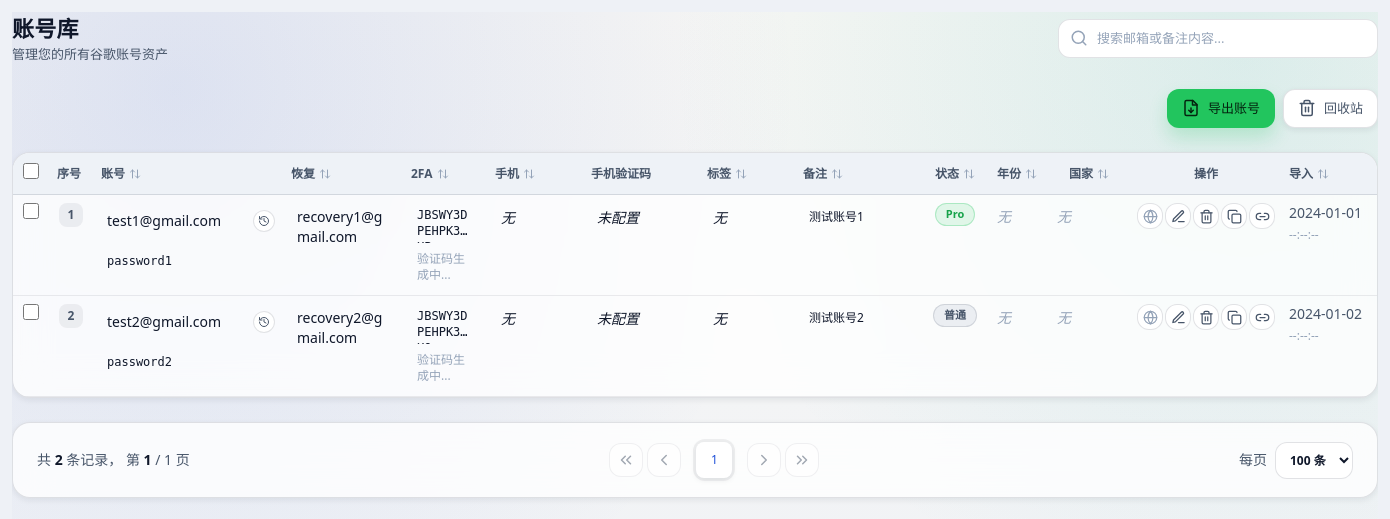
Test case: AccountListView 组件 › 操作按钮 › 刚编辑的新值可立即在同列其他行的建议中复用
Double-click the text "recovery1@gmail.com" at (340, 226), box x1=297 y1=207 x2=382 y2=246
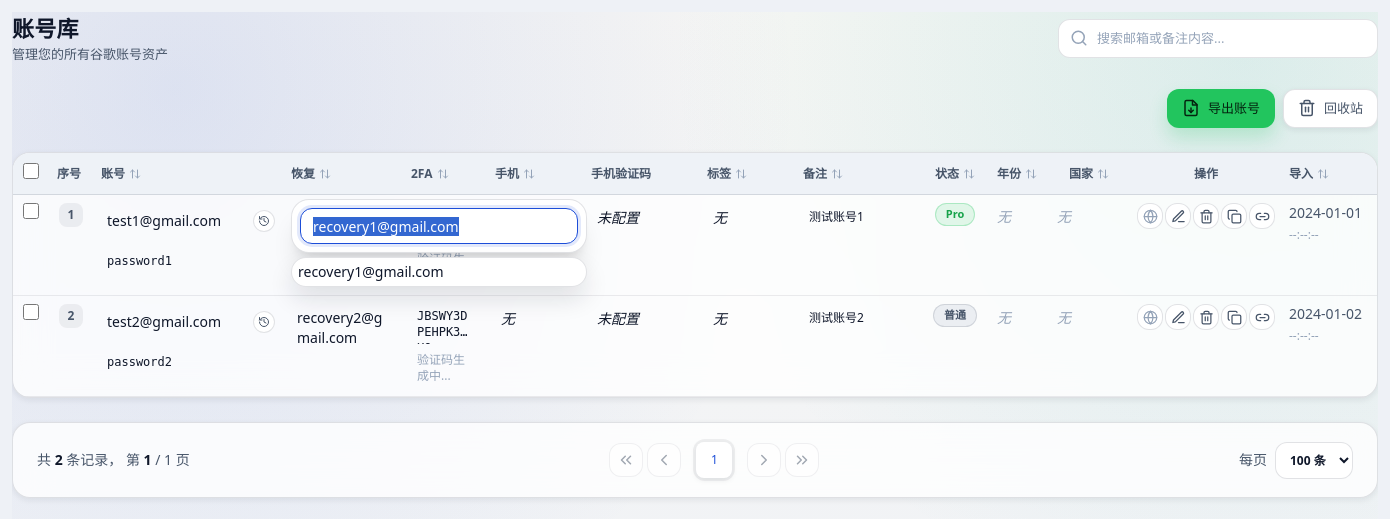
Replace the text in the field showing "recovery1@gmail.com" with "new-recovery@example.com" at (439, 226), box x1=300 y1=208 x2=578 y2=244
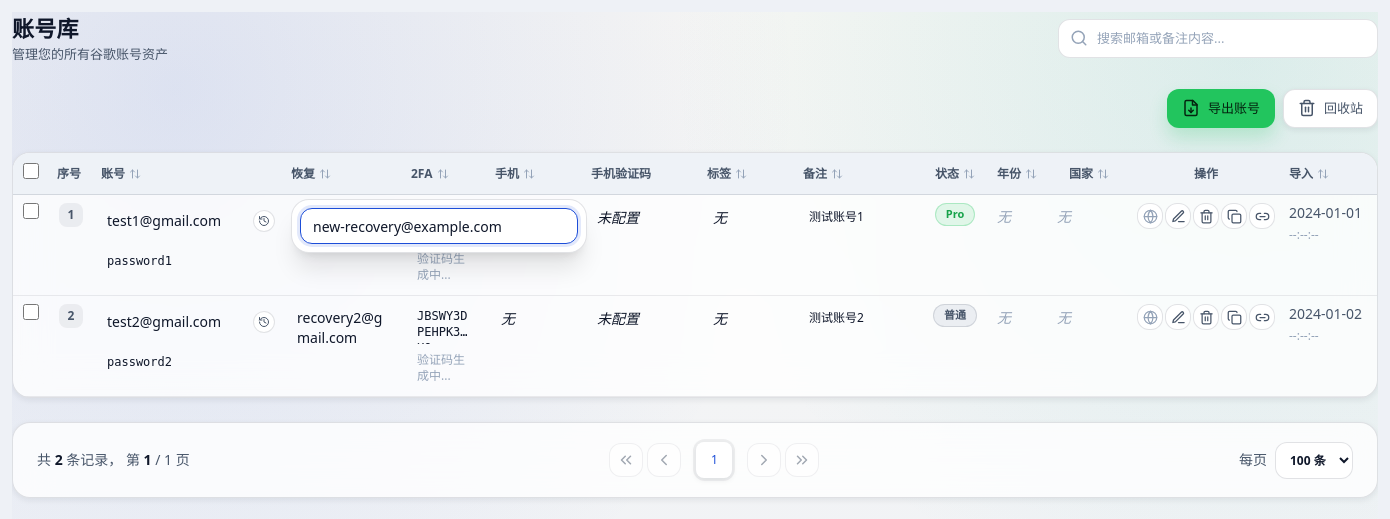
Press Enter in the field showing "recovery1@gmail.com", box x1=300 y1=208 x2=578 y2=244
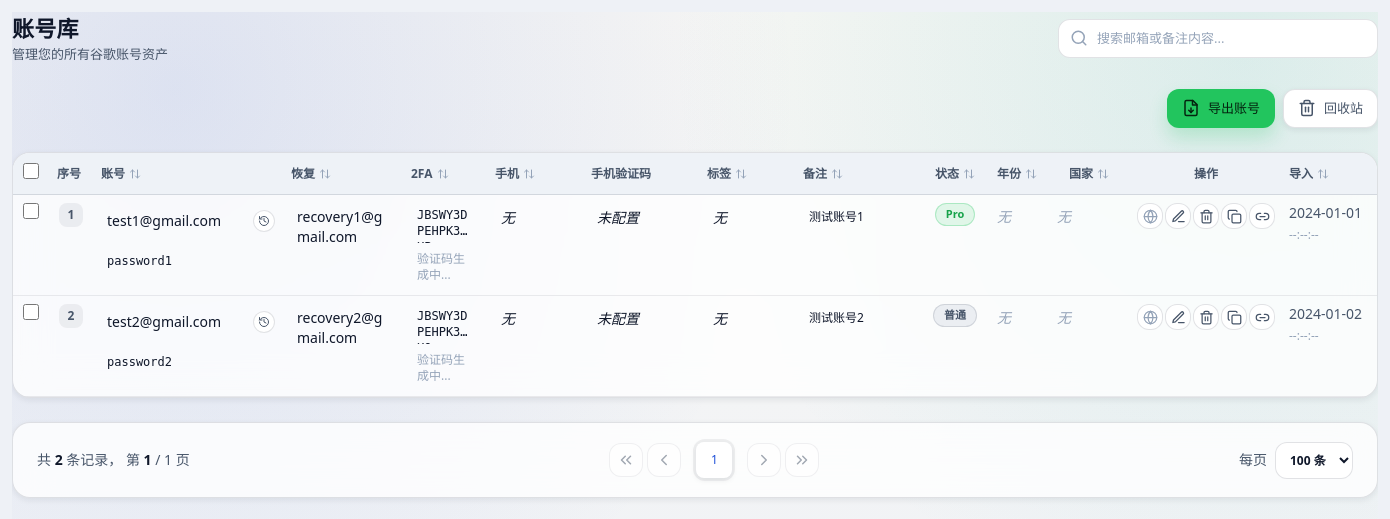
Double-click the text "recovery2@gmail.com" at (340, 328), box x1=297 y1=308 x2=382 y2=347
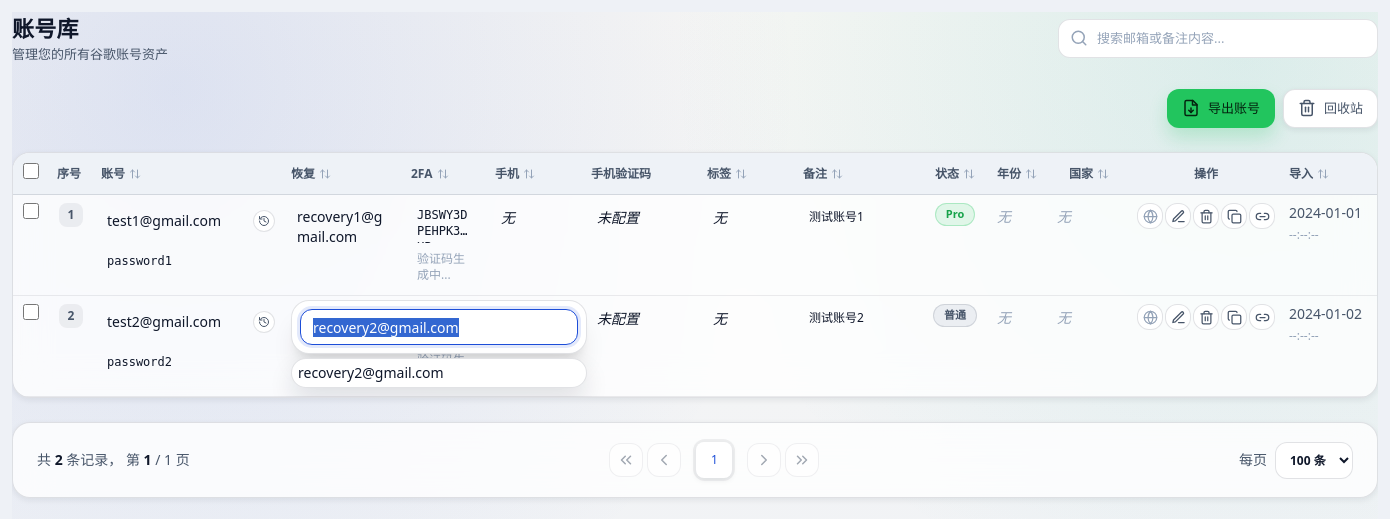
Clear the field showing "recovery2@gmail.com" at (439, 327), box x1=300 y1=309 x2=578 y2=345
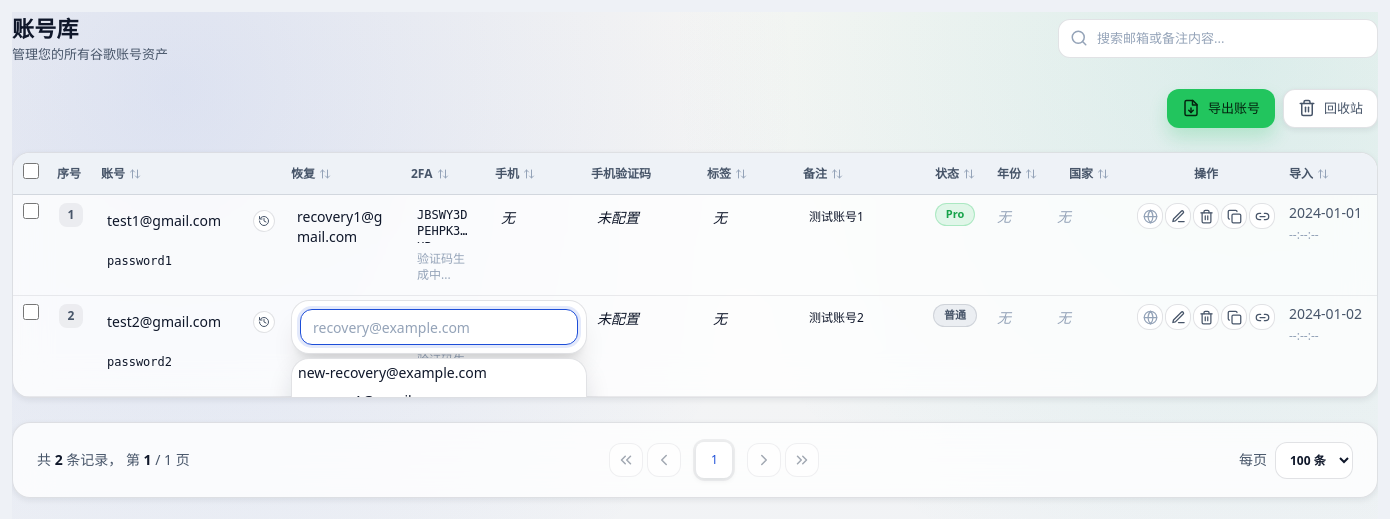
Expected: the button "new-recovery@example.com" is shown, x1=292 y1=359 x2=586 y2=387
